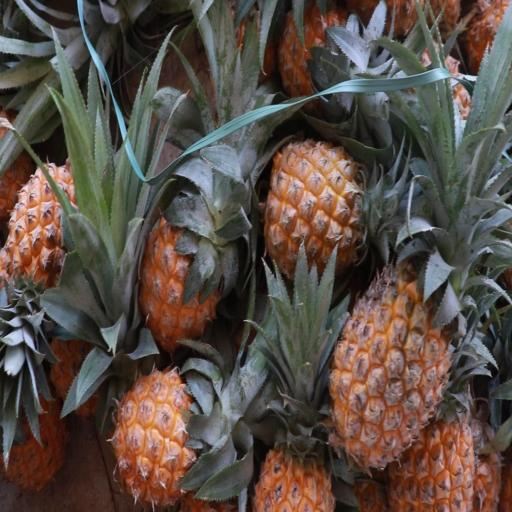Pineapple - v8 v1: (326, 242, 474, 481), (256, 126, 394, 292), (103, 357, 238, 512), (135, 184, 243, 356), (0, 144, 104, 316), (248, 366, 338, 512), (275, 1, 378, 127)
